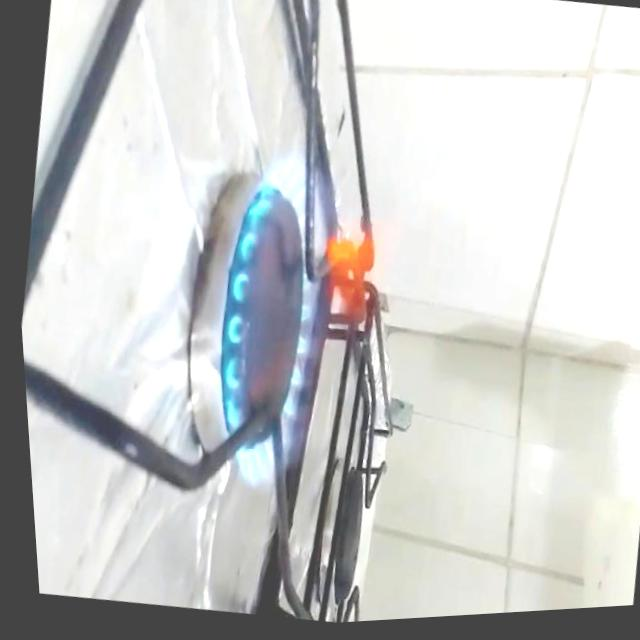Fire: (184, 139, 423, 519)
